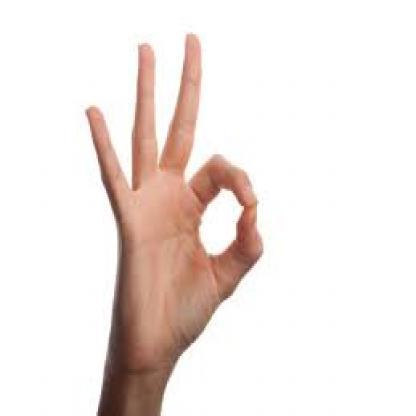ok: (81, 27, 265, 379)
